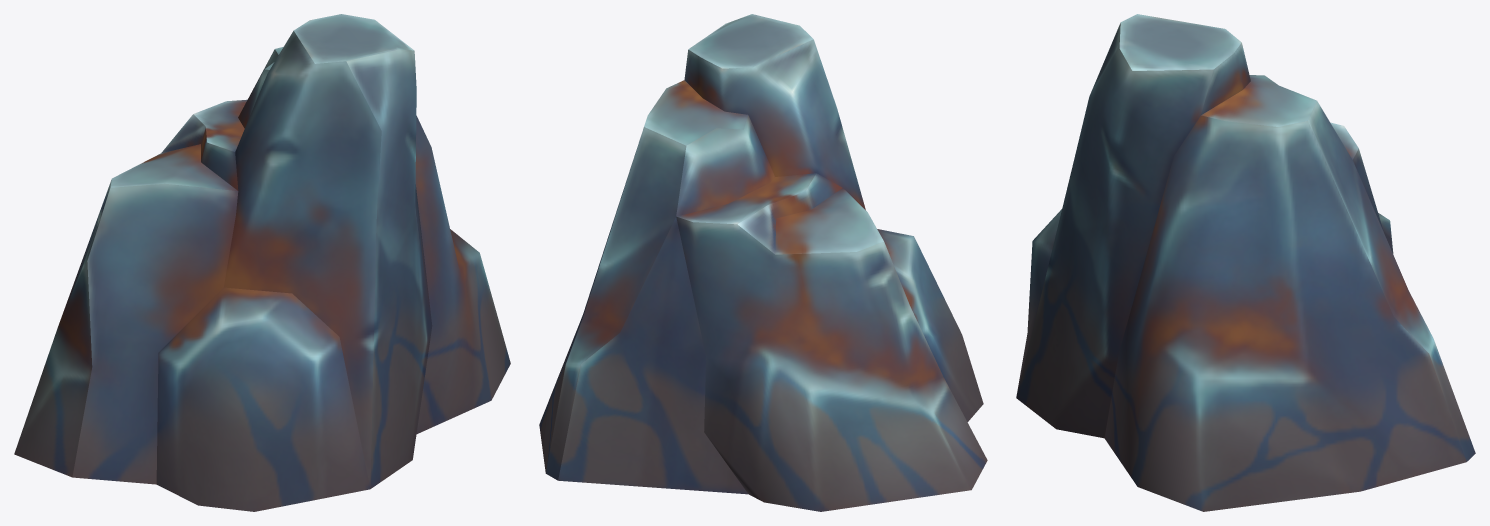
Rendered from field_rocks_iron_09.fbx.
3 renders of one model, left to right at view 1: azimuth 30°, elevation 25°; view 2: azimuth 150°, elevation 25°; view 3: azimuth 270°, elevation 25°, orthographic. The views are drawn at different scales.
Visible parts, largest first — view 1: field_rocks_iron_09; view 2: field_rocks_iron_09; view 3: field_rocks_iron_09.
Boxes of the visible parts, x1,y1,x2,y2 form: field_rocks_iron_09: (14, 14, 510, 511); field_rocks_iron_09: (539, 14, 987, 511); field_rocks_iron_09: (1016, 14, 1475, 511).
Size of the model in its own units: 175 by 139 by 148.
